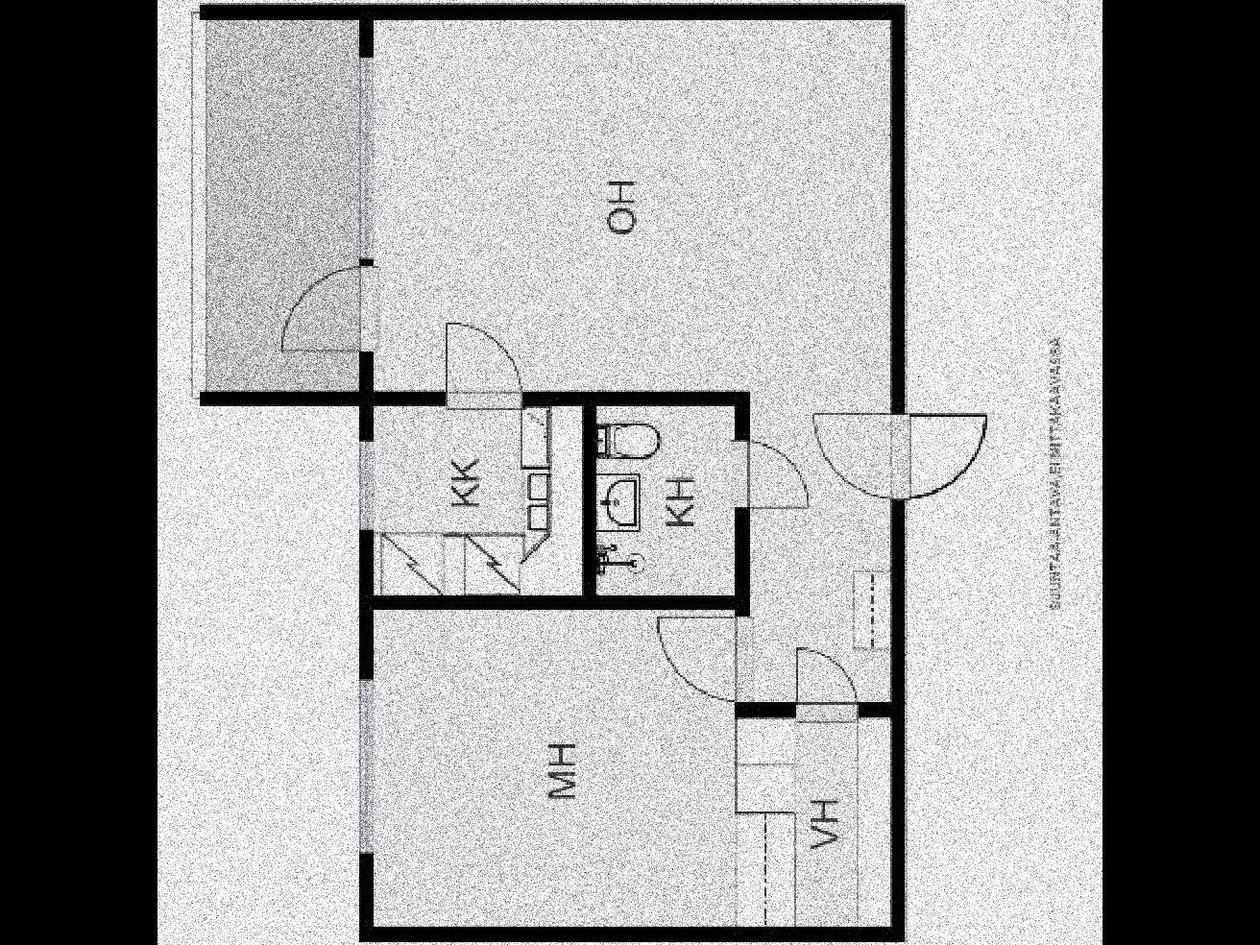door: (808, 397, 992, 506), (441, 294, 534, 420), (651, 606, 751, 709), (283, 260, 378, 351), (793, 642, 857, 723), (732, 443, 807, 511)
window: (361, 678, 377, 853), (353, 442, 381, 530), (362, 60, 372, 266)
zone: (370, 16, 891, 392), (373, 614, 734, 923), (205, 18, 363, 389), (734, 391, 893, 711), (375, 404, 582, 594), (732, 715, 891, 933), (595, 403, 731, 593)
